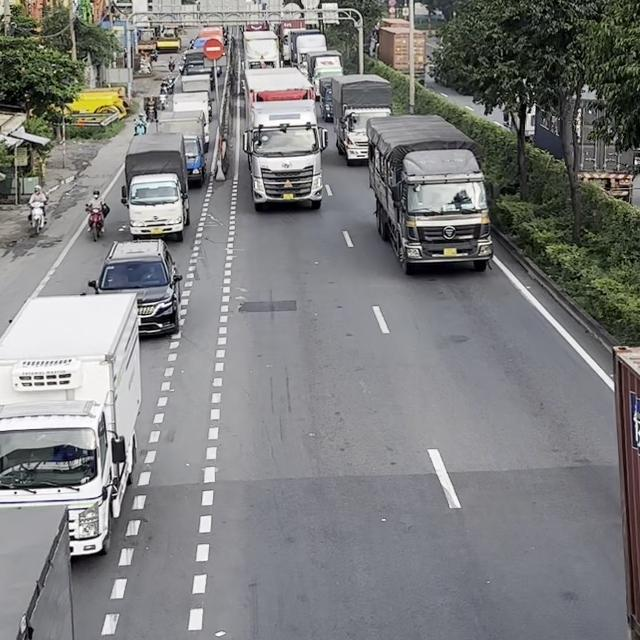car: (87, 238, 182, 338)
motorcycle: (84, 203, 108, 241), (27, 199, 48, 235)
truck: (0, 291, 142, 558), (366, 112, 493, 274), (241, 68, 327, 211), (0, 503, 74, 639), (611, 343, 639, 639), (120, 149, 190, 242), (330, 73, 393, 166), (156, 110, 206, 186), (242, 29, 281, 70)
